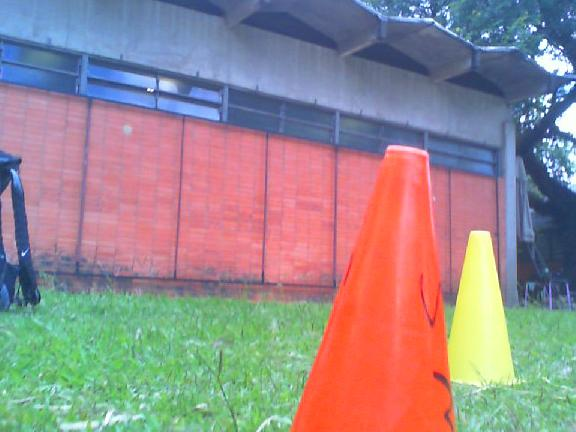0 cone: (286, 145, 457, 432), (448, 231, 521, 387)
